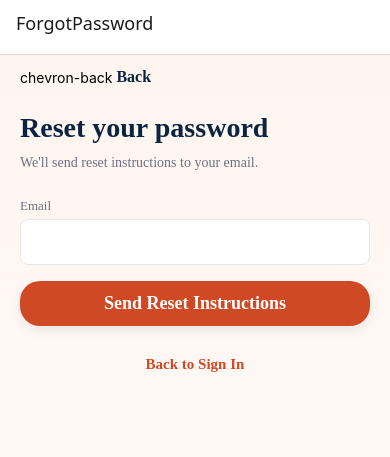
Scenario: AuthNavigator screens › shows a neutral forgot-password success message
The width and height of the screenshot is (390, 457).
Expected: the text "Reset your password" is shown, [20, 112, 268, 143]
Type "quizzer@example.com" into the field with test id "auth-forgot-password-email".
click(195, 242); type("quizzer@example.com")  # box [21, 220, 369, 264]
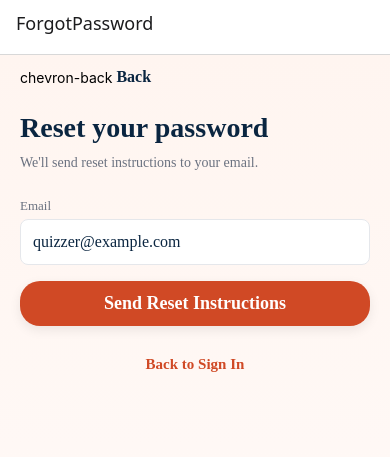
Click the button with test id "auth-forgot-password-submit".
click(195, 304)  # box [20, 281, 370, 326]
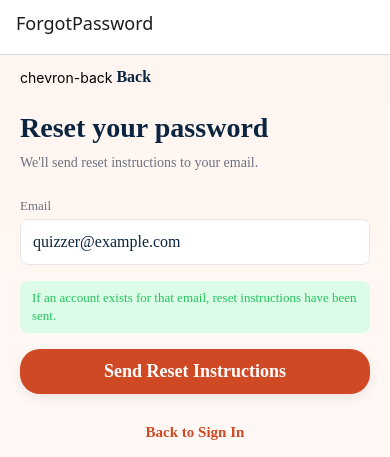
Result: the text "If an account exists for that email, reset instructions have been sent." is shown at [32, 289, 358, 325]
